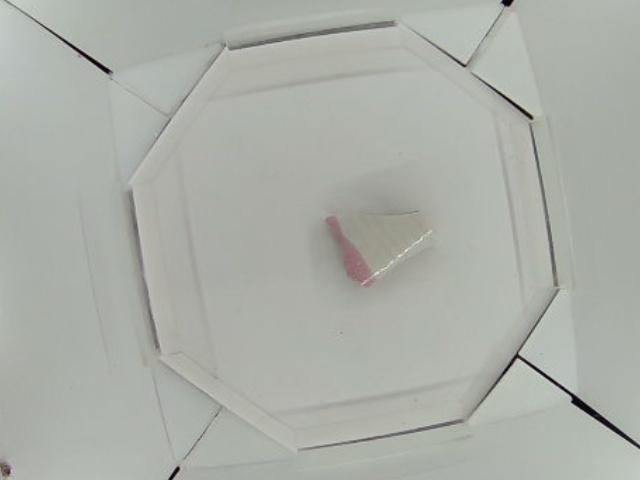China: (323, 201, 439, 286)
